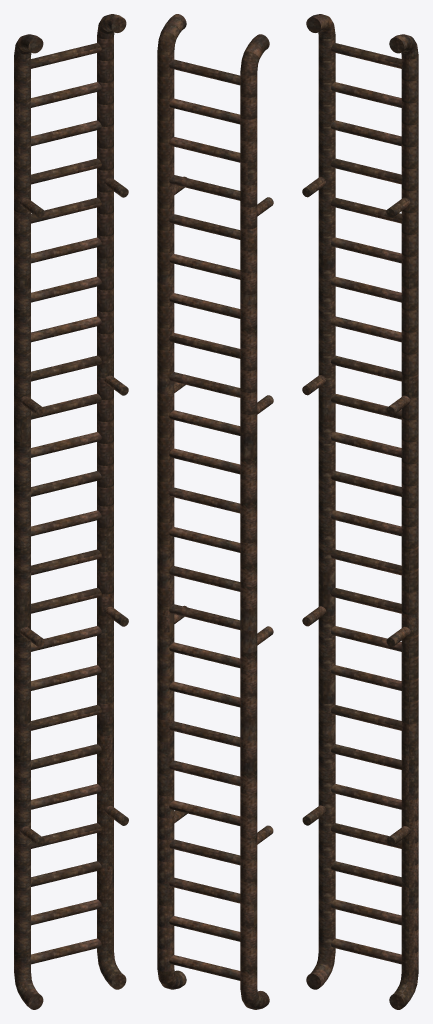
Rendered from Ladder.obj.
The picture shows the model from 3 angles, left to right: view 1: azimuth 30°, elevation 25°; view 2: azimuth 150°, elevation 25°; view 3: azimuth 330°, elevation 25°; orthographic projection.
Parts seen in each view (by area): view 1: Cylinder; view 2: Cylinder; view 3: Cylinder.
Boxes of the visible parts, bbox=[...] form: Cylinder: bbox=[14, 14, 128, 1009]; Cylinder: bbox=[157, 14, 273, 1009]; Cylinder: bbox=[302, 14, 418, 1009].
Size of the model in its own units: 3.85 by 36.56 by 1.6.
